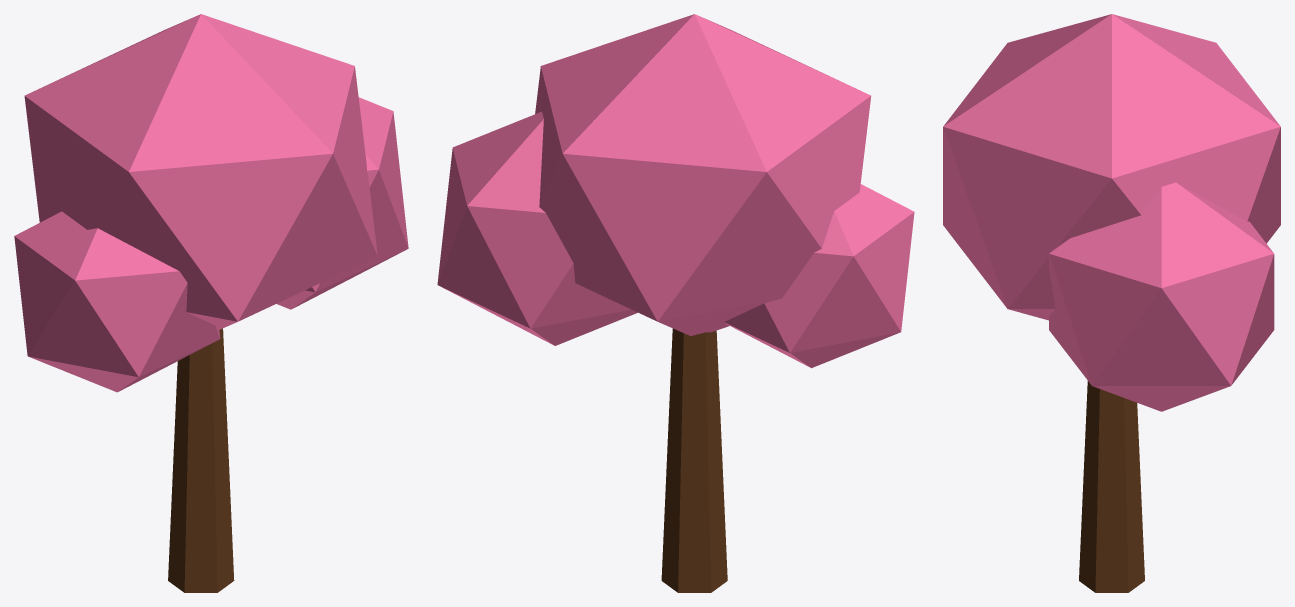
The model's file is sky_sky_tree.glb.
The picture shows the model from 3 angles, left to right: view 1: azimuth 30°, elevation 25°; view 2: azimuth 150°, elevation 25°; view 3: azimuth 270°, elevation 25°; orthographic projection.
Parts seen in each view (by area): view 1: sky_tree; view 2: sky_tree; view 3: sky_tree.
Boxes of the visible parts, <box> form: sky_tree: <box>14,14,408,592</box>; sky_tree: <box>437,14,914,592</box>; sky_tree: <box>943,14,1280,592</box>.
Bounding box in the file's own units: 2.84 × 3.78 × 2.04.
